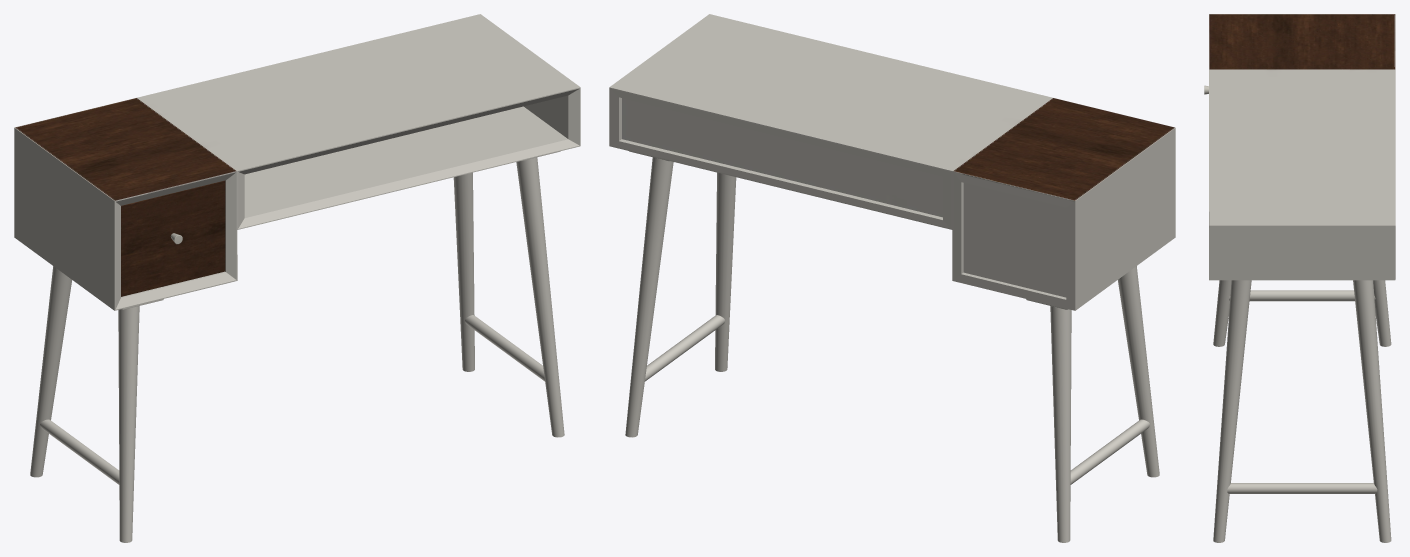
File: abo-B07HSJDN75.glb
3 renders of one model, left to right at view 1: azimuth 30°, elevation 25°; view 2: azimuth 150°, elevation 25°; view 3: azimuth 270°, elevation 25°, orthographic. The views are drawn at different scales.
Bounding box in the file's own units: 1.07 × 0.761 × 0.409.
1 material, 1 textured.
